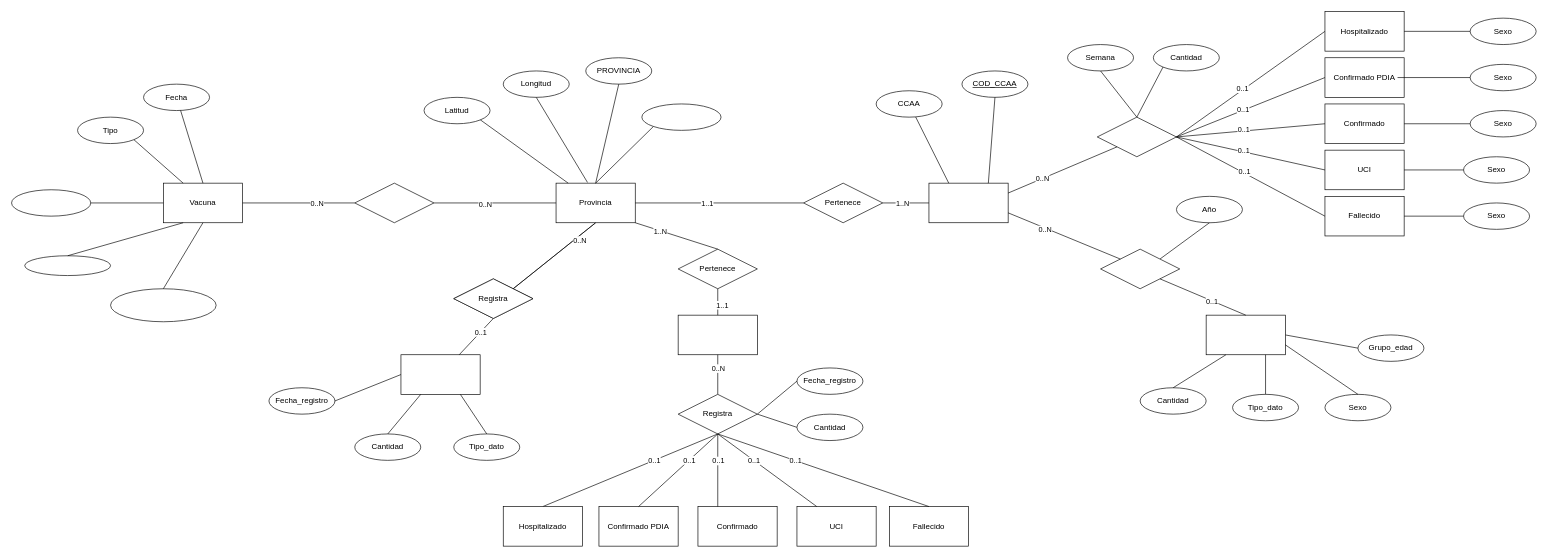
Image size: 1548x558. Some labels were removed from this diagram. Each missing label, with the centre of its shape:
Administradas: pixel 394 202
Almacena: pixel 1140 268
Anota: pixel 1136 136
Anotacion_Anual: pixel 1245 334
Anotacion_Diaria: pixel 440 374
COD_PROVINCIA: pixel 681 116
Comunidad Autónoma: pixel 968 202
Municipio: pixel 717 334
Porcentaje Adm/Reciv: pixel 163 305
Recibidas: pixel 67 265
Total_administradas: pixel 51 202
